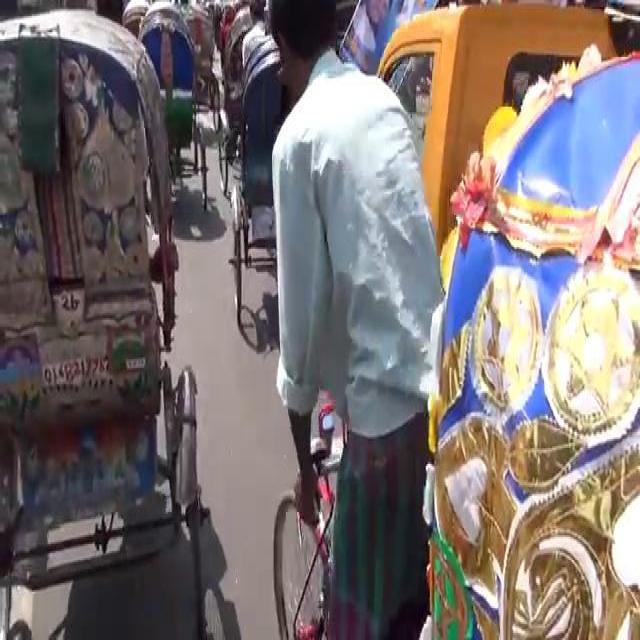pickup: (374, 2, 628, 268)
rickshaw: (260, 43, 638, 636), (0, 7, 226, 638), (224, 21, 292, 350), (132, 1, 212, 216), (216, 2, 252, 197), (182, 2, 218, 140)
